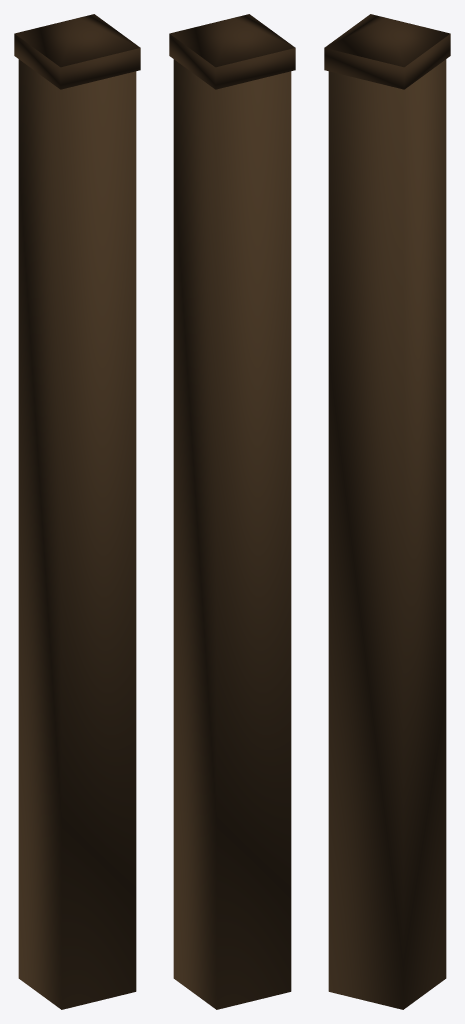
Rendered from tall_fence_post.glb.
3 renders of one model, left to right at view 1: azimuth 30°, elevation 25°; view 2: azimuth 210°, elevation 25°; view 3: azimuth 330°, elevation 25°, orthographic.
Parts seen in each view (by area): view 1: tall_fence_post; view 2: tall_fence_post; view 3: tall_fence_post.
Part boxes in pixels (x1,y1,x2,y2): tall_fence_post: [14, 14, 140, 1009]; tall_fence_post: [169, 14, 295, 1009]; tall_fence_post: [324, 14, 450, 1009].
Size of the model in its own units: 0.15 by 1.73 by 0.15.
